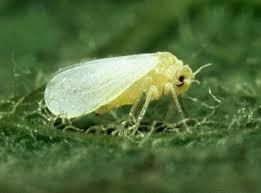Tobacco Whitefly: (37, 46, 207, 132)
